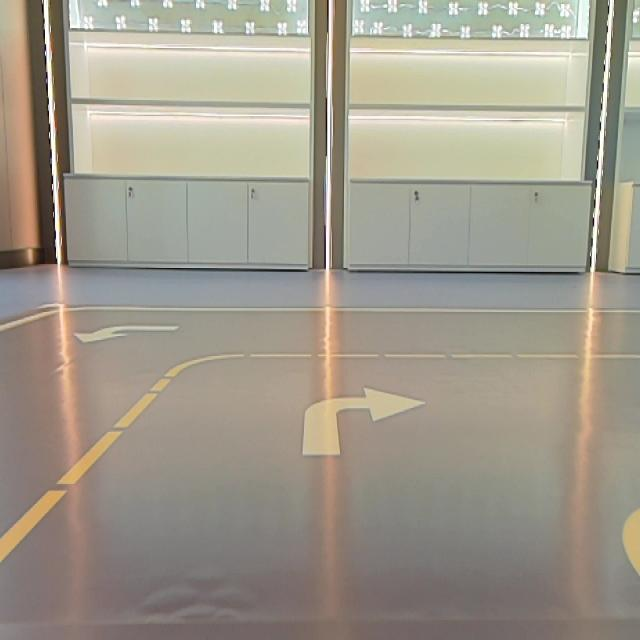left_lane: (0, 368, 177, 557)
right_lane: (0, 309, 57, 338), (623, 522, 640, 577)
